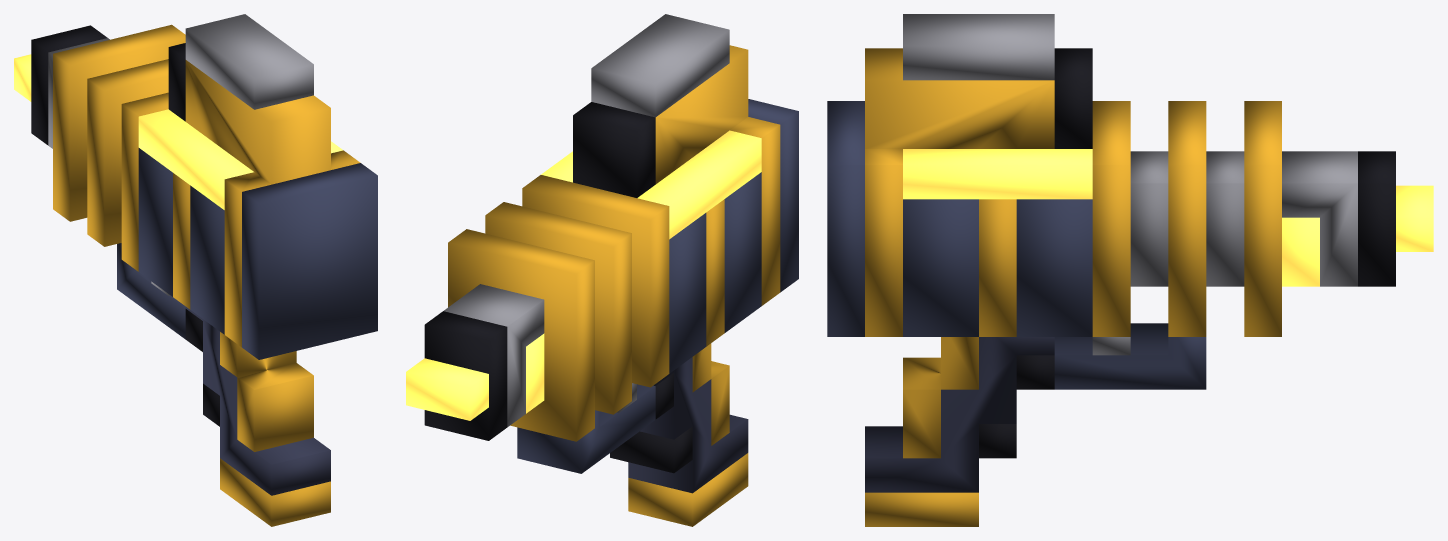
The model's file is welder.lod1.glb.
3 views of the same model, side by side, from view 1: azimuth 30°, elevation 25°; view 2: azimuth 150°, elevation 25°; view 3: azimuth 270°, elevation 25° (orthographic). The views are drawn at different scales.
Parts seen in each view (by area): view 1: welder.body; view 2: welder.body; view 3: welder.body.
Boxes of the visible parts, x1,y1,x2,y2 form: welder.body: [14, 14, 377, 526]; welder.body: [406, 14, 798, 526]; welder.body: [827, 14, 1433, 526].
Bounding box in the file's own units: 0.125 × 0.4375 × 0.5.
